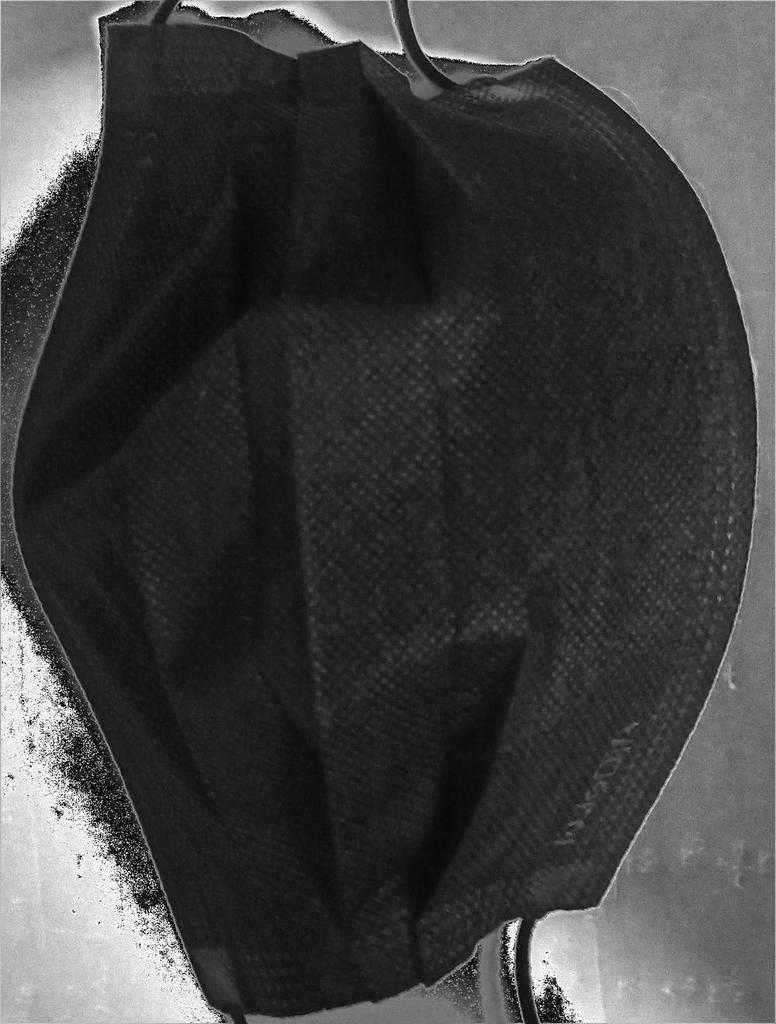Low GSM: (22, 16, 769, 1009)
